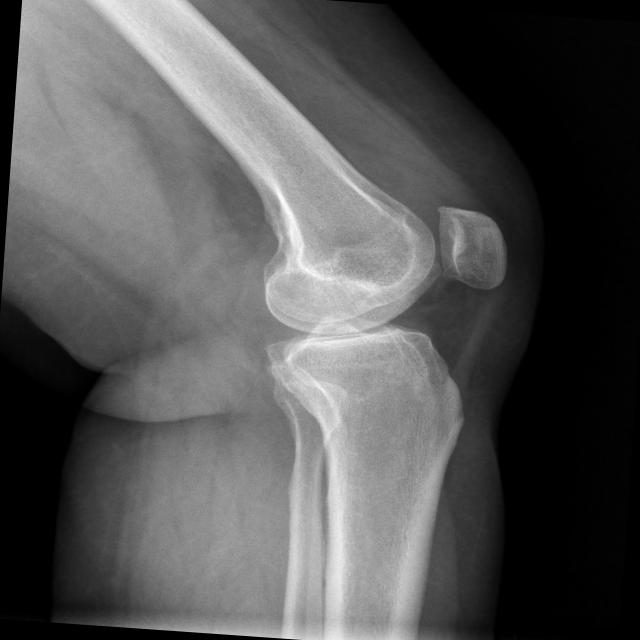Knee: (234, 188, 508, 410)
